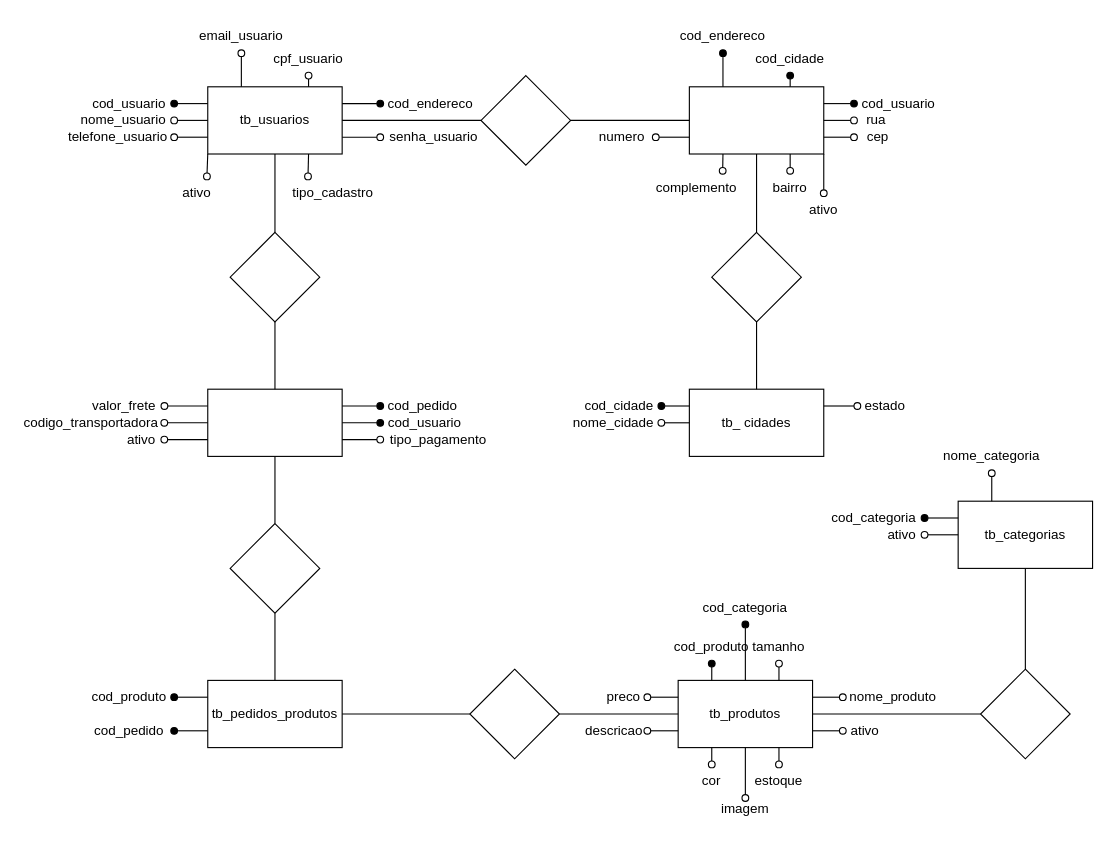
Some shapes in this 1113 by 844 pixel diagram are drawn without their labels. Each missing label, with the centre of its shape:
"tb_enderecos" belongs at (x=756, y=120).
"tb_pedidos" belongs at (x=274, y=422).
